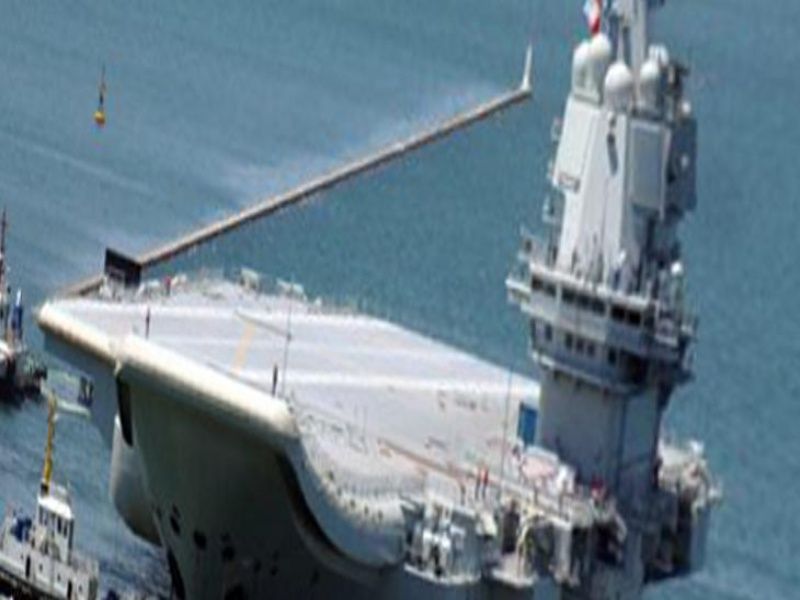carrier: (90, 162, 711, 596)
